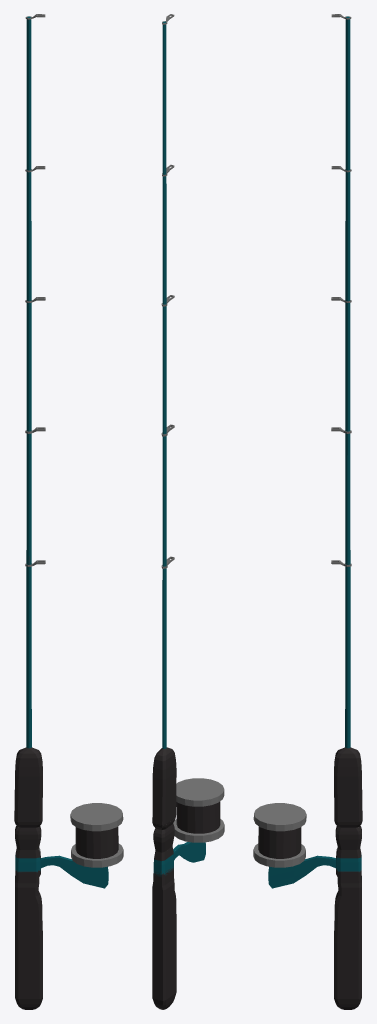
The model's file is FishingRod1.fbx.
3 views of the same model, side by side, from view 1: azimuth 90°, elevation 25°; view 2: azimuth 150°, elevation 25°; view 3: azimuth 270°, elevation 25° (orthographic).
Visible parts, largest first — view 1: Cube; view 2: Cube; view 3: Cube.
Part boxes in pixels (left/top/right/bottom): Cube: left=14, top=14, right=123, bottom=1009; Cube: left=152, top=14, right=224, bottom=1009; Cube: left=253, top=14, right=362, bottom=1009.
Size of the model in its own units: 38.06 by 806 by 80.29.
